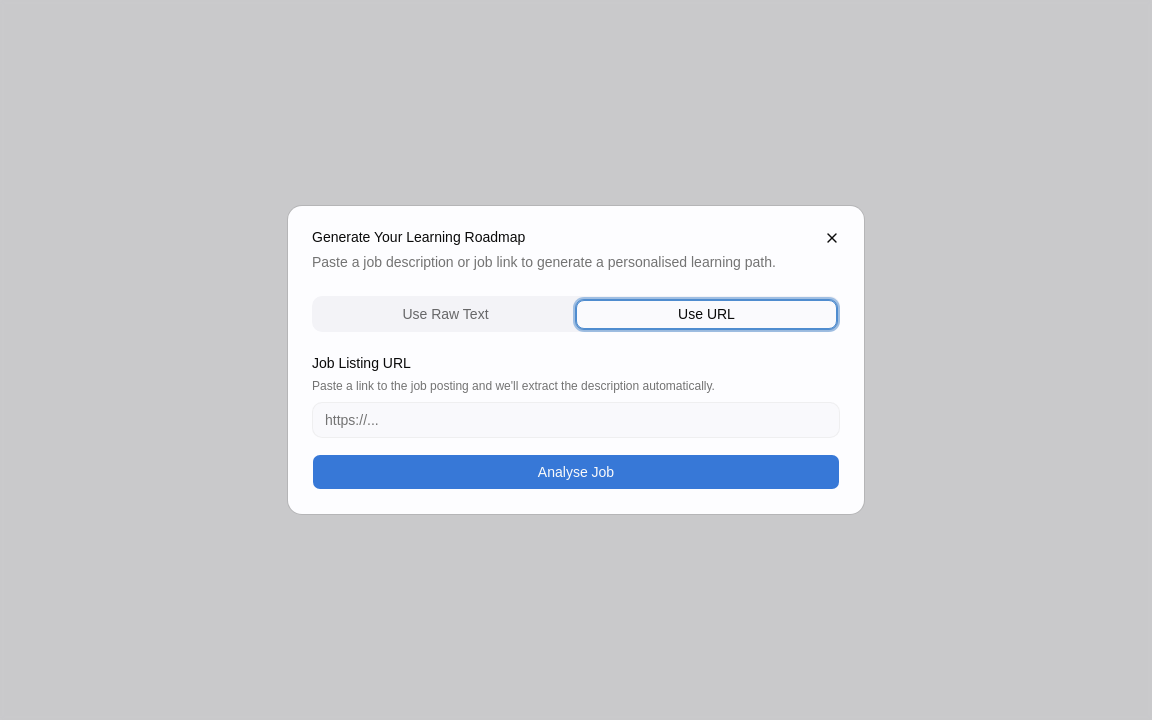
Scenario: CreateRoadMapModal › switches to text input when Raw Text tab is clicked
Click the tab "Use Raw Text" at (446, 314), box [315,300,576,328]
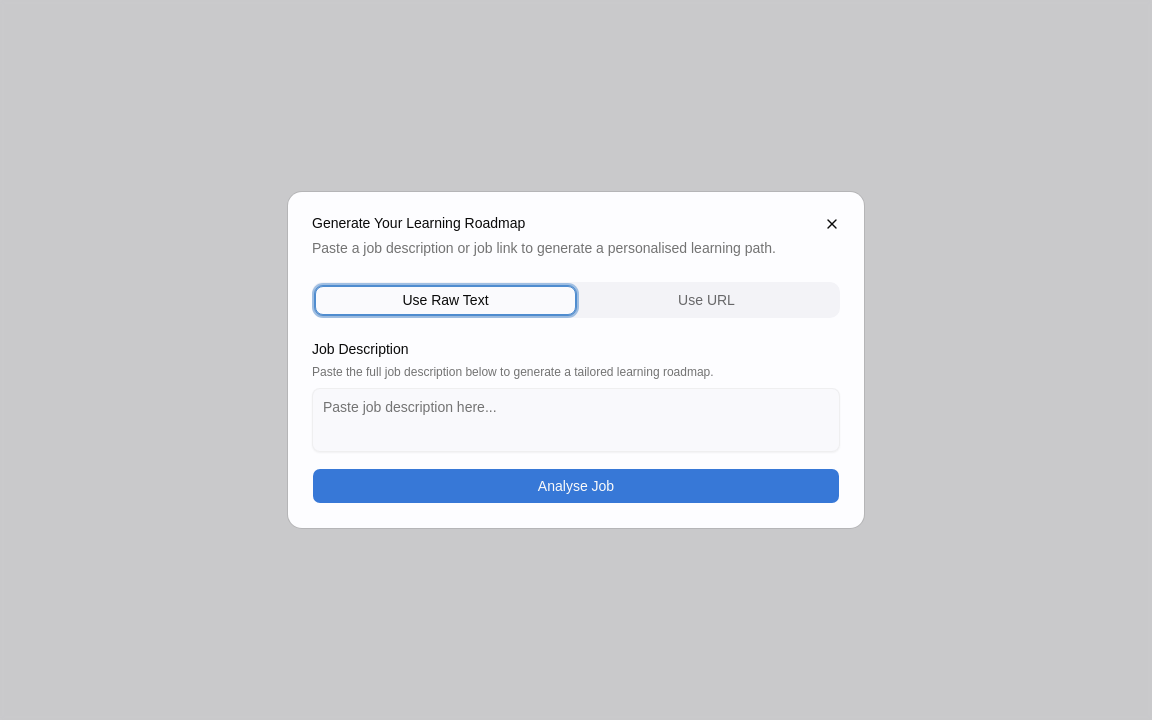
Expected: the text box with placeholder "Paste job description here..." is shown, [312,388,840,452]
